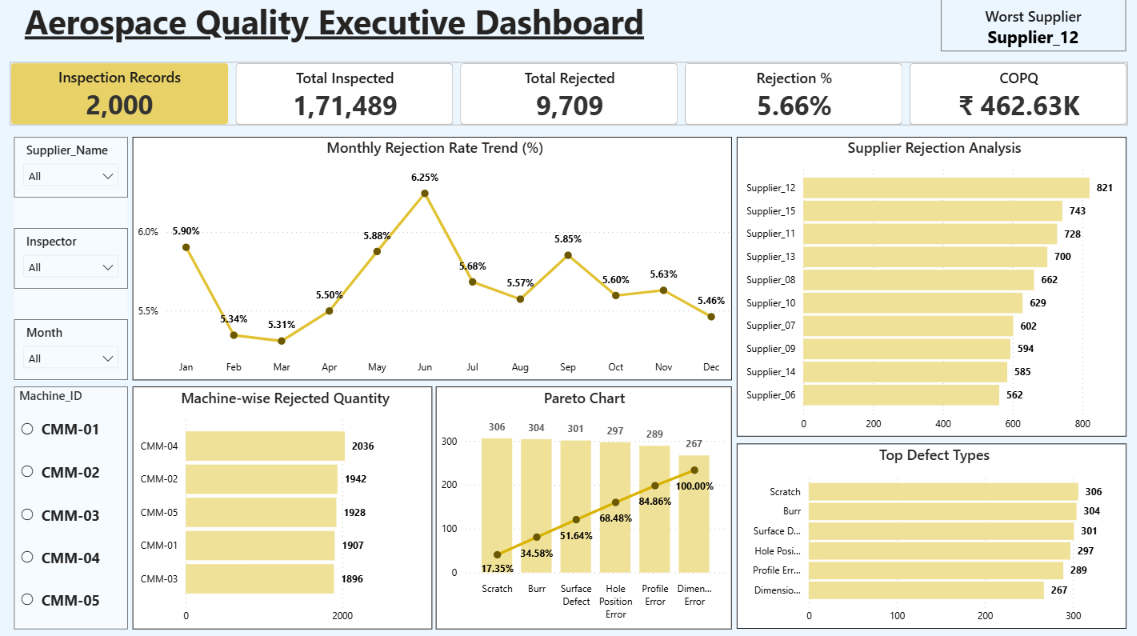

The page's visual inventory and layout, read from the dashboard file:
{"tool":"powerbi","page":{"name":"Page 1","canvas":[1280,720],"ordinal":0},"visuals":[{"type":"cardVisual","fields":{"Data":["inspection_data.Total Inspections","inspection_data.Total Inspected","inspection_data.Total Rejected","inspection_data.Rejection %","inspection_data.COPQ"]},"box":[0,64,1280,96],"z":0},{"type":"slicer","fields":{"Values":["inspection_data.Supplier_Name"]},"box":[16,160,128,68],"z":1000,"group":"g1"},{"type":"clusteredBarChart","title":"Supplier Rejection Analysis","fields":{"Category":["inspection_data.Supplier_Name"],"Y":["inspection_data.Total Rejected"]},"box":[827,160,437,336],"z":1000},{"type":"listSlicer","fields":{"Values":["inspection_data.Machine_ID"]},"box":[16,440,128,272],"z":2000},{"type":"lineChart","title":"Monthly Rejection Rate Trend (%)","fields":{"Category":["inspection_data.Month"],"Y":["inspection_data.Rejection %"]},"box":[150,160,672,273],"z":3000},{"type":"clusteredBarChart","title":"Top Defect Types","fields":{"Category":["inspection_data.Defect_Type"],"Y":["inspection_data.Defect Count"]},"box":[827,504,437,208],"z":4000},{"type":"slicer","fields":{"Values":["inspection_data.Inspector"]},"box":[16,262,128,68],"z":5000,"group":"g1"},{"type":"clusteredBarChart","title":"Machine-wise Rejected Quantity","fields":{"Category":["inspection_data.Machine_ID"],"Y":["inspection_data.Total Rejected"]},"box":[150,440,336,272],"z":5000},{"type":"textbox","box":[0,0,752,64],"z":6000},{"type":"group","id":"g1","title":"Group 1","box":[16,160,128,272],"z":7000},{"type":"slicer","fields":{"Values":["inspection_data.Month"]},"box":[16,364,128,68],"z":7000,"group":"g1"},{"type":"cardVisual","title":"Worst Supplier:","fields":{"Data":["inspection_data.Top Supplier Name"]},"box":[1056,0,208,64],"z":8000},{"type":"lineClusteredColumnComboChart","title":"Pareto Chart","fields":{"Category":["Defect_Pareto.Defect_Type"],"Y":["Defect_Pareto.Defect Count Measure"],"Y2":["Defect_Pareto.Cumulative %"]},"box":[490,440,332,272],"z":9000}]}

Visuals, with their boxes in screenshot pixels (x1, y1, x2, y2), scaled from the page's 1280x720 canvas onto the 1137x636 screenshot:
cardVisual - inspection_data.Total Inspections x inspection_data.Total Inspected: 0 57 1136 141
slicer - inspection_data.Supplier_Name: 14 141 128 201
"Supplier Rejection Analysis" clusteredBarChart: 735 141 1123 438
listSlicer - inspection_data.Machine_ID: 14 389 128 629
"Monthly Rejection Rate Trend (%)" lineChart: 133 141 730 382
"Top Defect Types" clusteredBarChart: 735 445 1123 629
slicer - inspection_data.Inspector: 14 231 128 292
"Machine-wise Rejected Quantity" clusteredBarChart: 133 389 432 629
textbox: 0 0 668 57
"Group 1" group: 14 141 128 382
slicer - inspection_data.Month: 14 322 128 382
"Worst Supplier:" cardVisual: 938 0 1123 57
"Pareto Chart" lineClusteredColumnComboChart: 435 389 730 629
